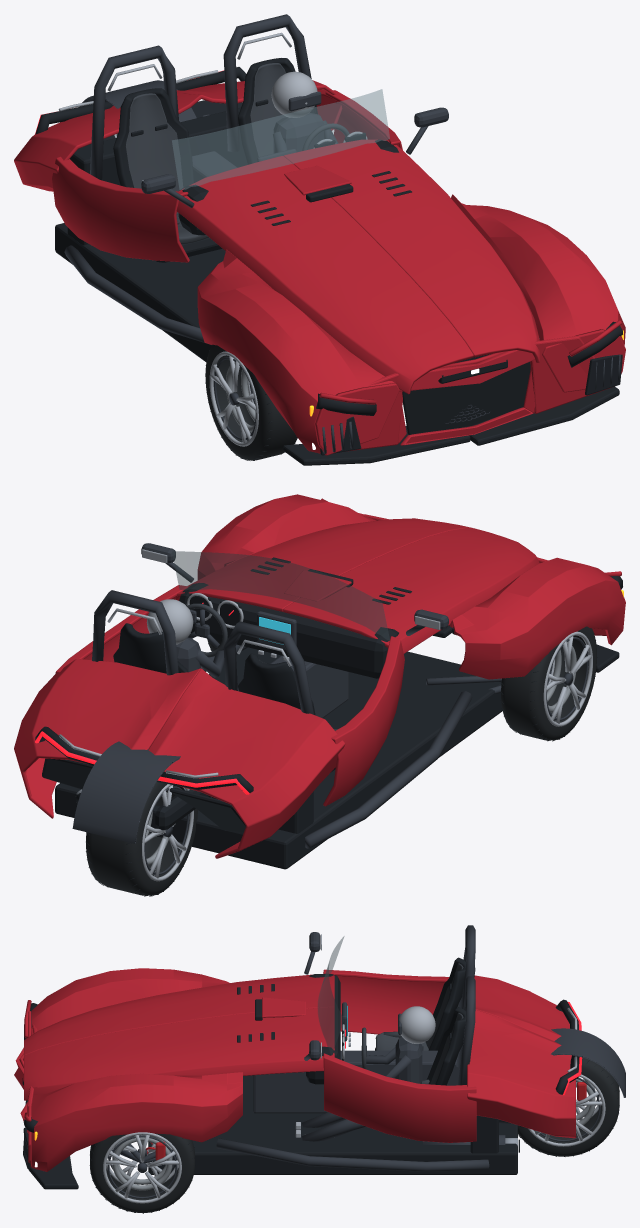
File: slingshot-r-hero.glb
The picture shows the model from 3 angles, top to bottom: view 1: azimuth 30°, elevation 25°; view 2: azimuth 150°, elevation 25°; view 3: azimuth 270°, elevation 25°; orthographic projection. The views are drawn at different scales.
Visible parts, largest first — view 1: Body_BodyPaint, Body_TexturedTrim, Body_Graphite, Windscreen, Body_Upholstery, Tire_0, Rider_Graphite, Rim_0_-1_WheelFinish, Helmet, Body_MachinedAlloy; view 2: Body_BodyPaint, Body_TexturedTrim, Body_Graphite, Windscreen, Tire_0, Tire_2, Rim_0_-1_WheelFinish, Body_MachinedAlloy, Rim_2_-1_WheelFinish, Rider_Graphite, Helmet, Body_TailLamp (+1 smaller); view 3: Body_BodyPaint, Body_TexturedTrim, Body_Graphite, Tire_1, Tire_2, Rider_Graphite, Rim_1_1_WheelFinish, Windscreen, Body_Upholstery, Helmet, Wheel_1_BrakeSteel, Rim_2_1_WheelFinish (+3 smaller).
Boxes of the visible parts, x1,y1,x2,y2 form: Body_BodyPaint: [14, 80, 625, 455]; Body_TexturedTrim: [35, 58, 622, 465]; Body_Graphite: [64, 14, 620, 453]; Windscreen: [172, 89, 389, 189]; Body_Upholstery: [126, 63, 285, 244]; Tire_0: [205, 344, 297, 460]; Rider_Graphite: [273, 91, 338, 153]; Rim_0_-1_WheelFinish: [209, 351, 258, 446]; Helmet: [271, 71, 317, 117]; Body_MachinedAlloy: [58, 32, 539, 338]; Body_BodyPaint: [14, 494, 625, 858]; Body_TexturedTrim: [35, 557, 622, 869]; Body_Graphite: [72, 543, 501, 848]; Windscreen: [172, 551, 389, 640]; Tire_0: [501, 626, 596, 740]; Tire_2: [86, 782, 197, 895]; Rim_0_-1_WheelFinish: [543, 631, 592, 726]; Body_MachinedAlloy: [59, 549, 440, 778]; Rim_2_-1_WheelFinish: [142, 784, 193, 881]; Rider_Graphite: [176, 609, 224, 677]; Helmet: [146, 599, 193, 644]; Body_TailLamp: [35, 731, 249, 794]; Body_BodyPaint: [14, 968, 576, 1171]; Body_TexturedTrim: [22, 957, 579, 1189]; Body_Graphite: [24, 925, 625, 1171]; Tire_1: [90, 1133, 194, 1212]; Tire_2: [518, 1057, 619, 1156]; Rider_Graphite: [302, 1013, 422, 1141]; Rim_1_1_WheelFinish: [103, 1132, 181, 1203]; Windscreen: [317, 936, 344, 1054]; Body_Upholstery: [375, 963, 463, 1084]; Helmet: [399, 1006, 435, 1043]; Wheel_1_BrakeSteel: [112, 1134, 172, 1190]; Rim_2_1_WheelFinish: [528, 1074, 605, 1146].
Bounding box in the file's own units: 2.01 × 1.32 × 3.87.
